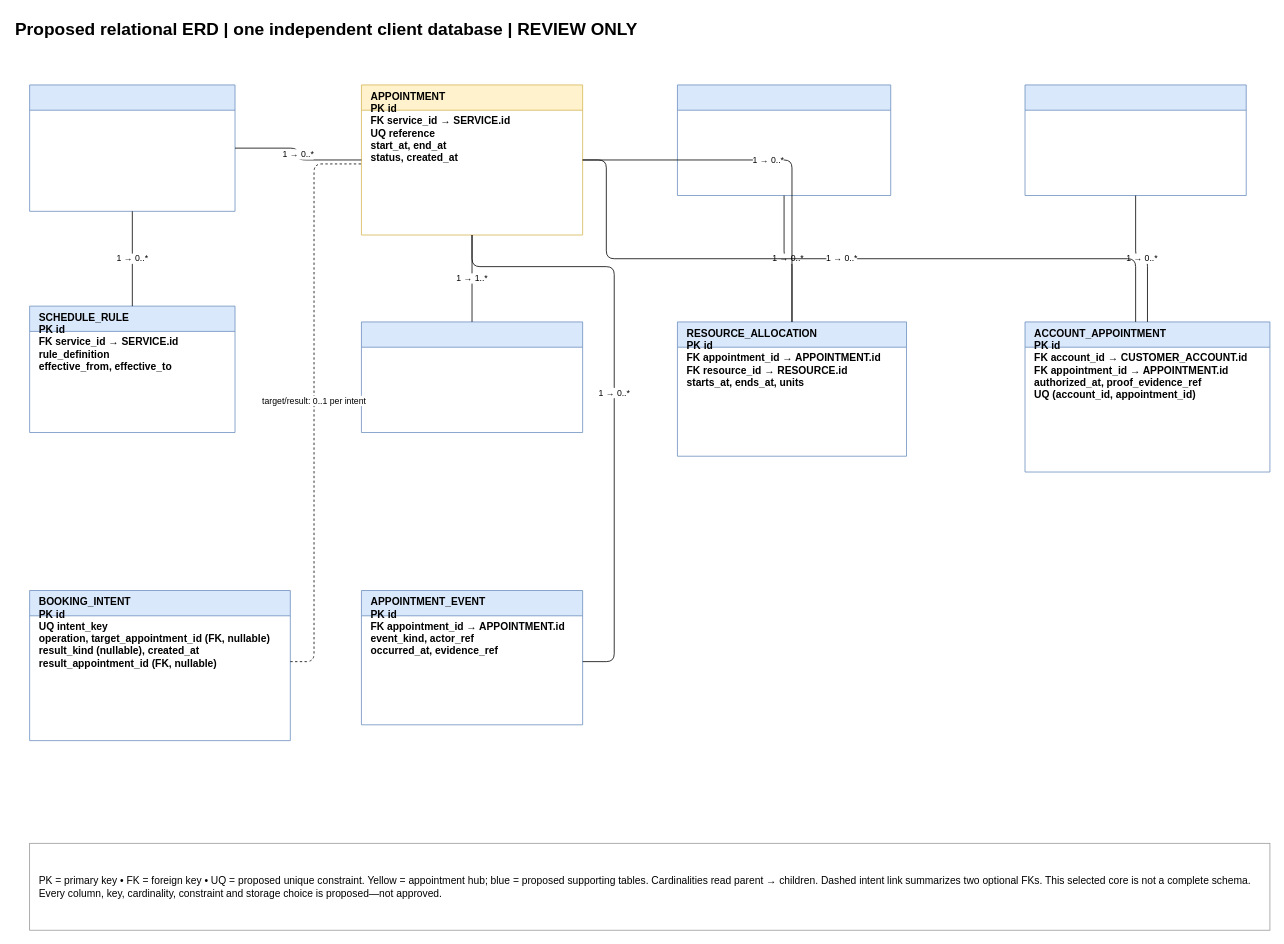
This 1284x944 diagram has some shape labels left out. The shapes that lost their labels are listed below. From the top down, each one's centre as x and y in pixels, then its label:
At [132,147]: "SERVICE PK id name duration_minutes active".
At [784,140]: "RESOURCE PK id kind, label configured_limit, active".
At [1135,140]: "CUSTOMER_ACCOUNT PK id account_state verified_contact_ref".
At [472,377]: "PARTICIPATION PK id FK appointment_id → APPOINTMENT.id role, scoped_details".
